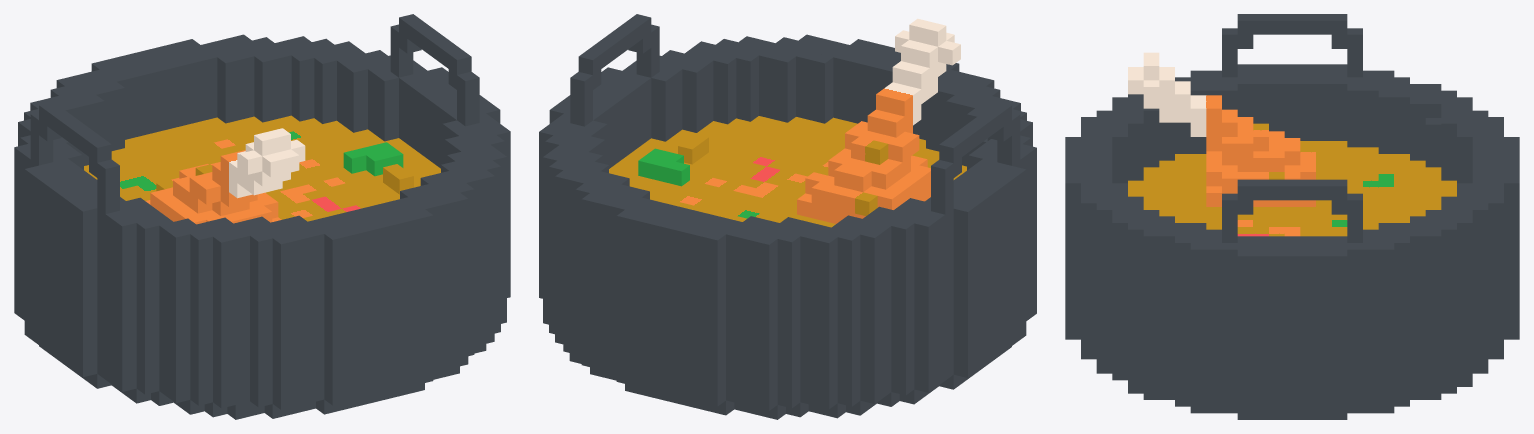
3 views of the same model, side by side, from view 1: azimuth 30°, elevation 25°; view 2: azimuth 150°, elevation 25°; view 3: azimuth 270°, elevation 25° (orthographic). The views are drawn at different scales.
Parts seen in each view (by area): view 1: Object; view 2: Object; view 3: Object.
Part boxes in pixels (left/top/right/bottom): Object: left=14, top=14, right=510, bottom=419; Object: left=539, top=14, right=1036, bottom=419; Object: left=1065, top=14, right=1519, bottom=419.
Size of the model in its own units: 29 by 17 by 29.
1 material, 1 textured.
